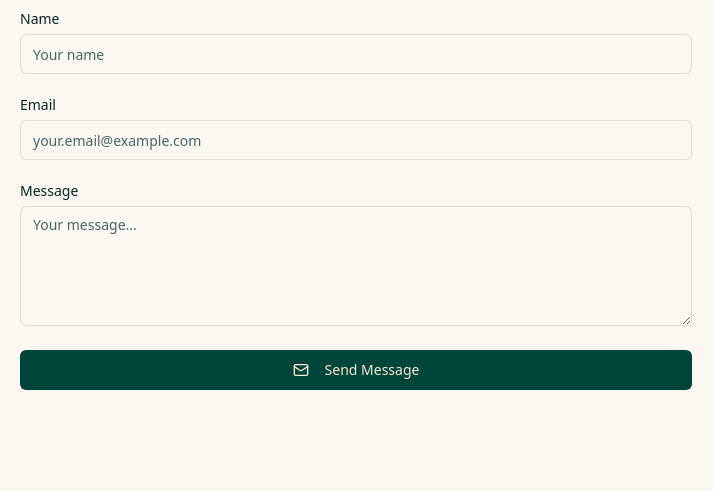
Test case: ContactForm › should display validation errors for empty fields
Click the button "Send Message" at x=356, y=370, box [20, 350, 692, 390]
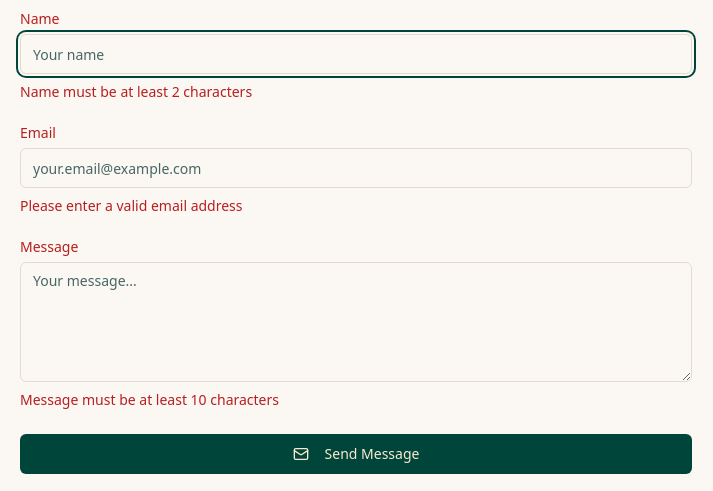
Result: the text "Name must be at least 2 characters" is shown at [20, 82, 252, 101]
